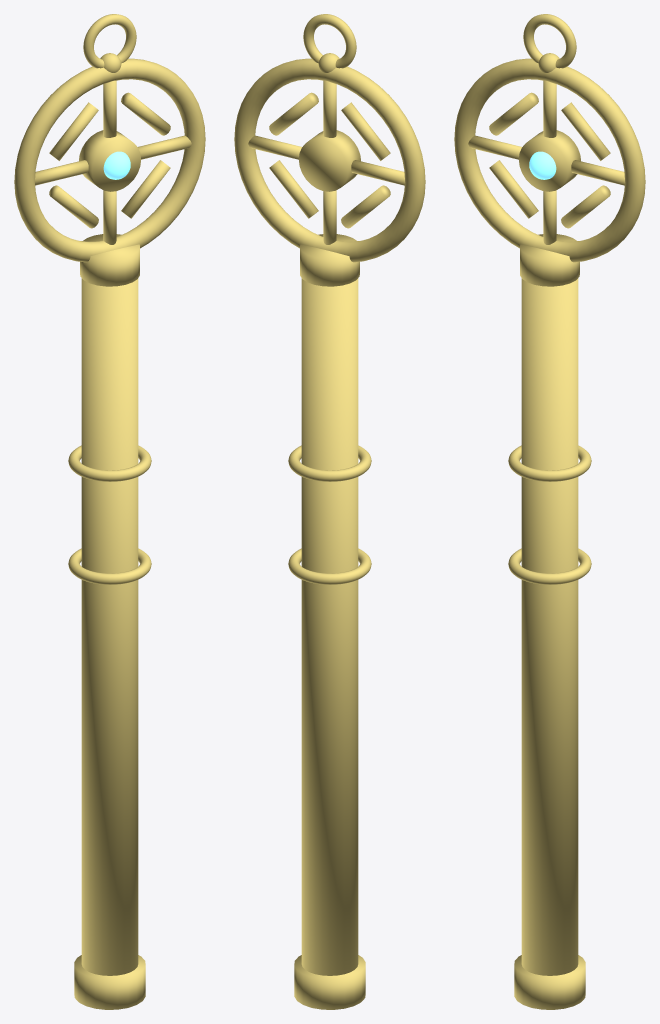
File: astrolabe_clean.glb
3 renders of one model, left to right at view 1: azimuth 30°, elevation 25°; view 2: azimuth 150°, elevation 25°; view 3: azimuth 330°, elevation 25°, orthographic.
Parts seen in each view (by area): view 1: Astrolabe_Staff; view 2: Astrolabe_Staff; view 3: Astrolabe_Staff.
Boxes of the visible parts, bbox=[...] form: Astrolabe_Staff: bbox=[14, 14, 205, 1009]; Astrolabe_Staff: bbox=[234, 14, 425, 1009]; Astrolabe_Staff: bbox=[454, 14, 645, 1009].
Bounding box in the file's own units: 0.115 × 0.5708 × 0.044.
